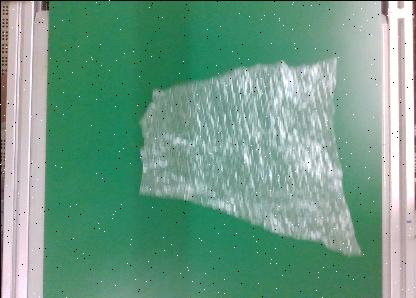Others: (138, 55, 364, 257), (138, 56, 362, 258)
